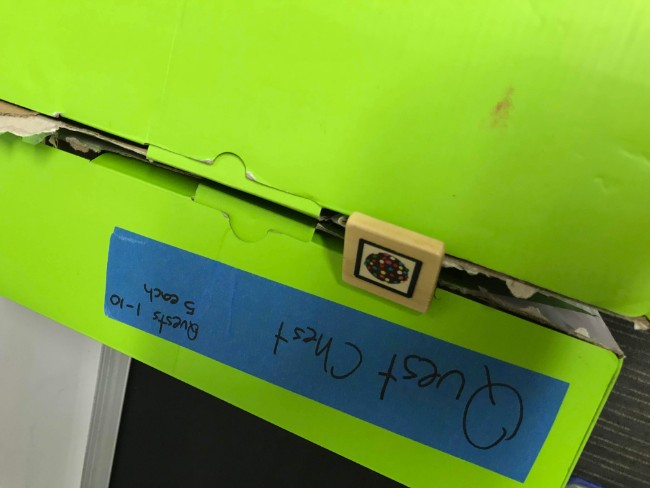cookie: (346, 229, 429, 304)
